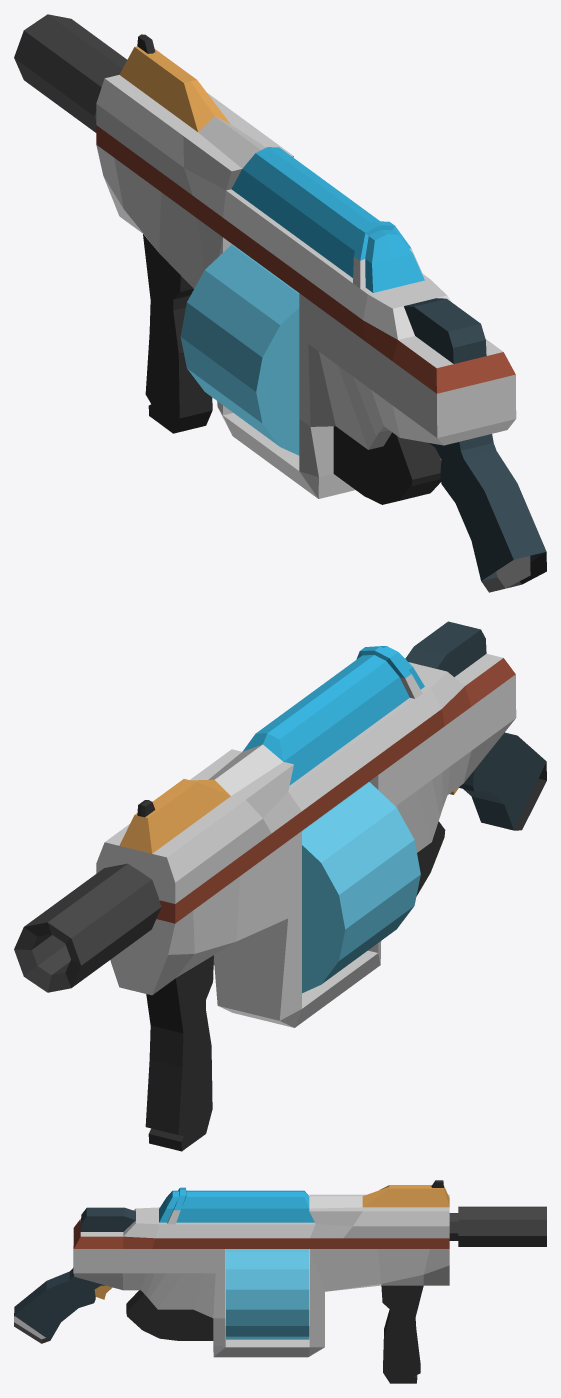
The model's file is Gun.fbx.
The picture shows the model from 3 angles, top to bottom: view 1: azimuth 30°, elevation 25°; view 2: azimuth 150°, elevation 25°; view 3: azimuth 270°, elevation 25°; orthographic projection. The views are drawn at different scales.
Visible parts, largest first — view 1: gun, barrel, musel; view 2: gun, barrel, musel; view 3: gun, barrel, musel.
Boxes of the visible parts, bbox=[...] form: gun: bbox=[96, 34, 546, 592]; barrel: bbox=[180, 244, 299, 455]; musel: bbox=[14, 14, 126, 132]; gun: bbox=[96, 621, 546, 1151]; barrel: bbox=[213, 782, 420, 993]; musel: bbox=[14, 863, 161, 992]; gun: bbox=[14, 1180, 449, 1383]; barrel: bbox=[226, 1249, 309, 1339]; musel: bbox=[449, 1206, 546, 1246].
Bounding box in the file's own units: 67.7 × 141 × 344.
